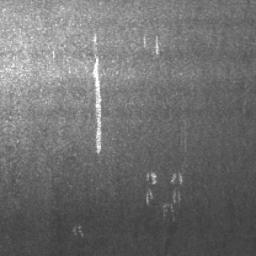Bright scratch: (93, 34, 101, 153)
